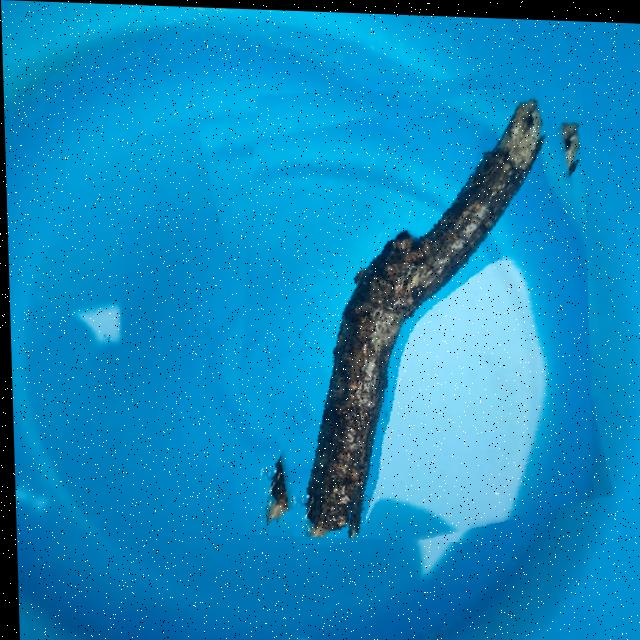litter: (213, 69, 591, 543)
